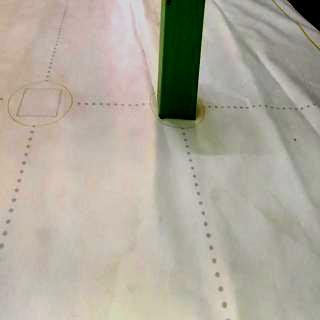greenbox: (158, 0, 205, 119)
